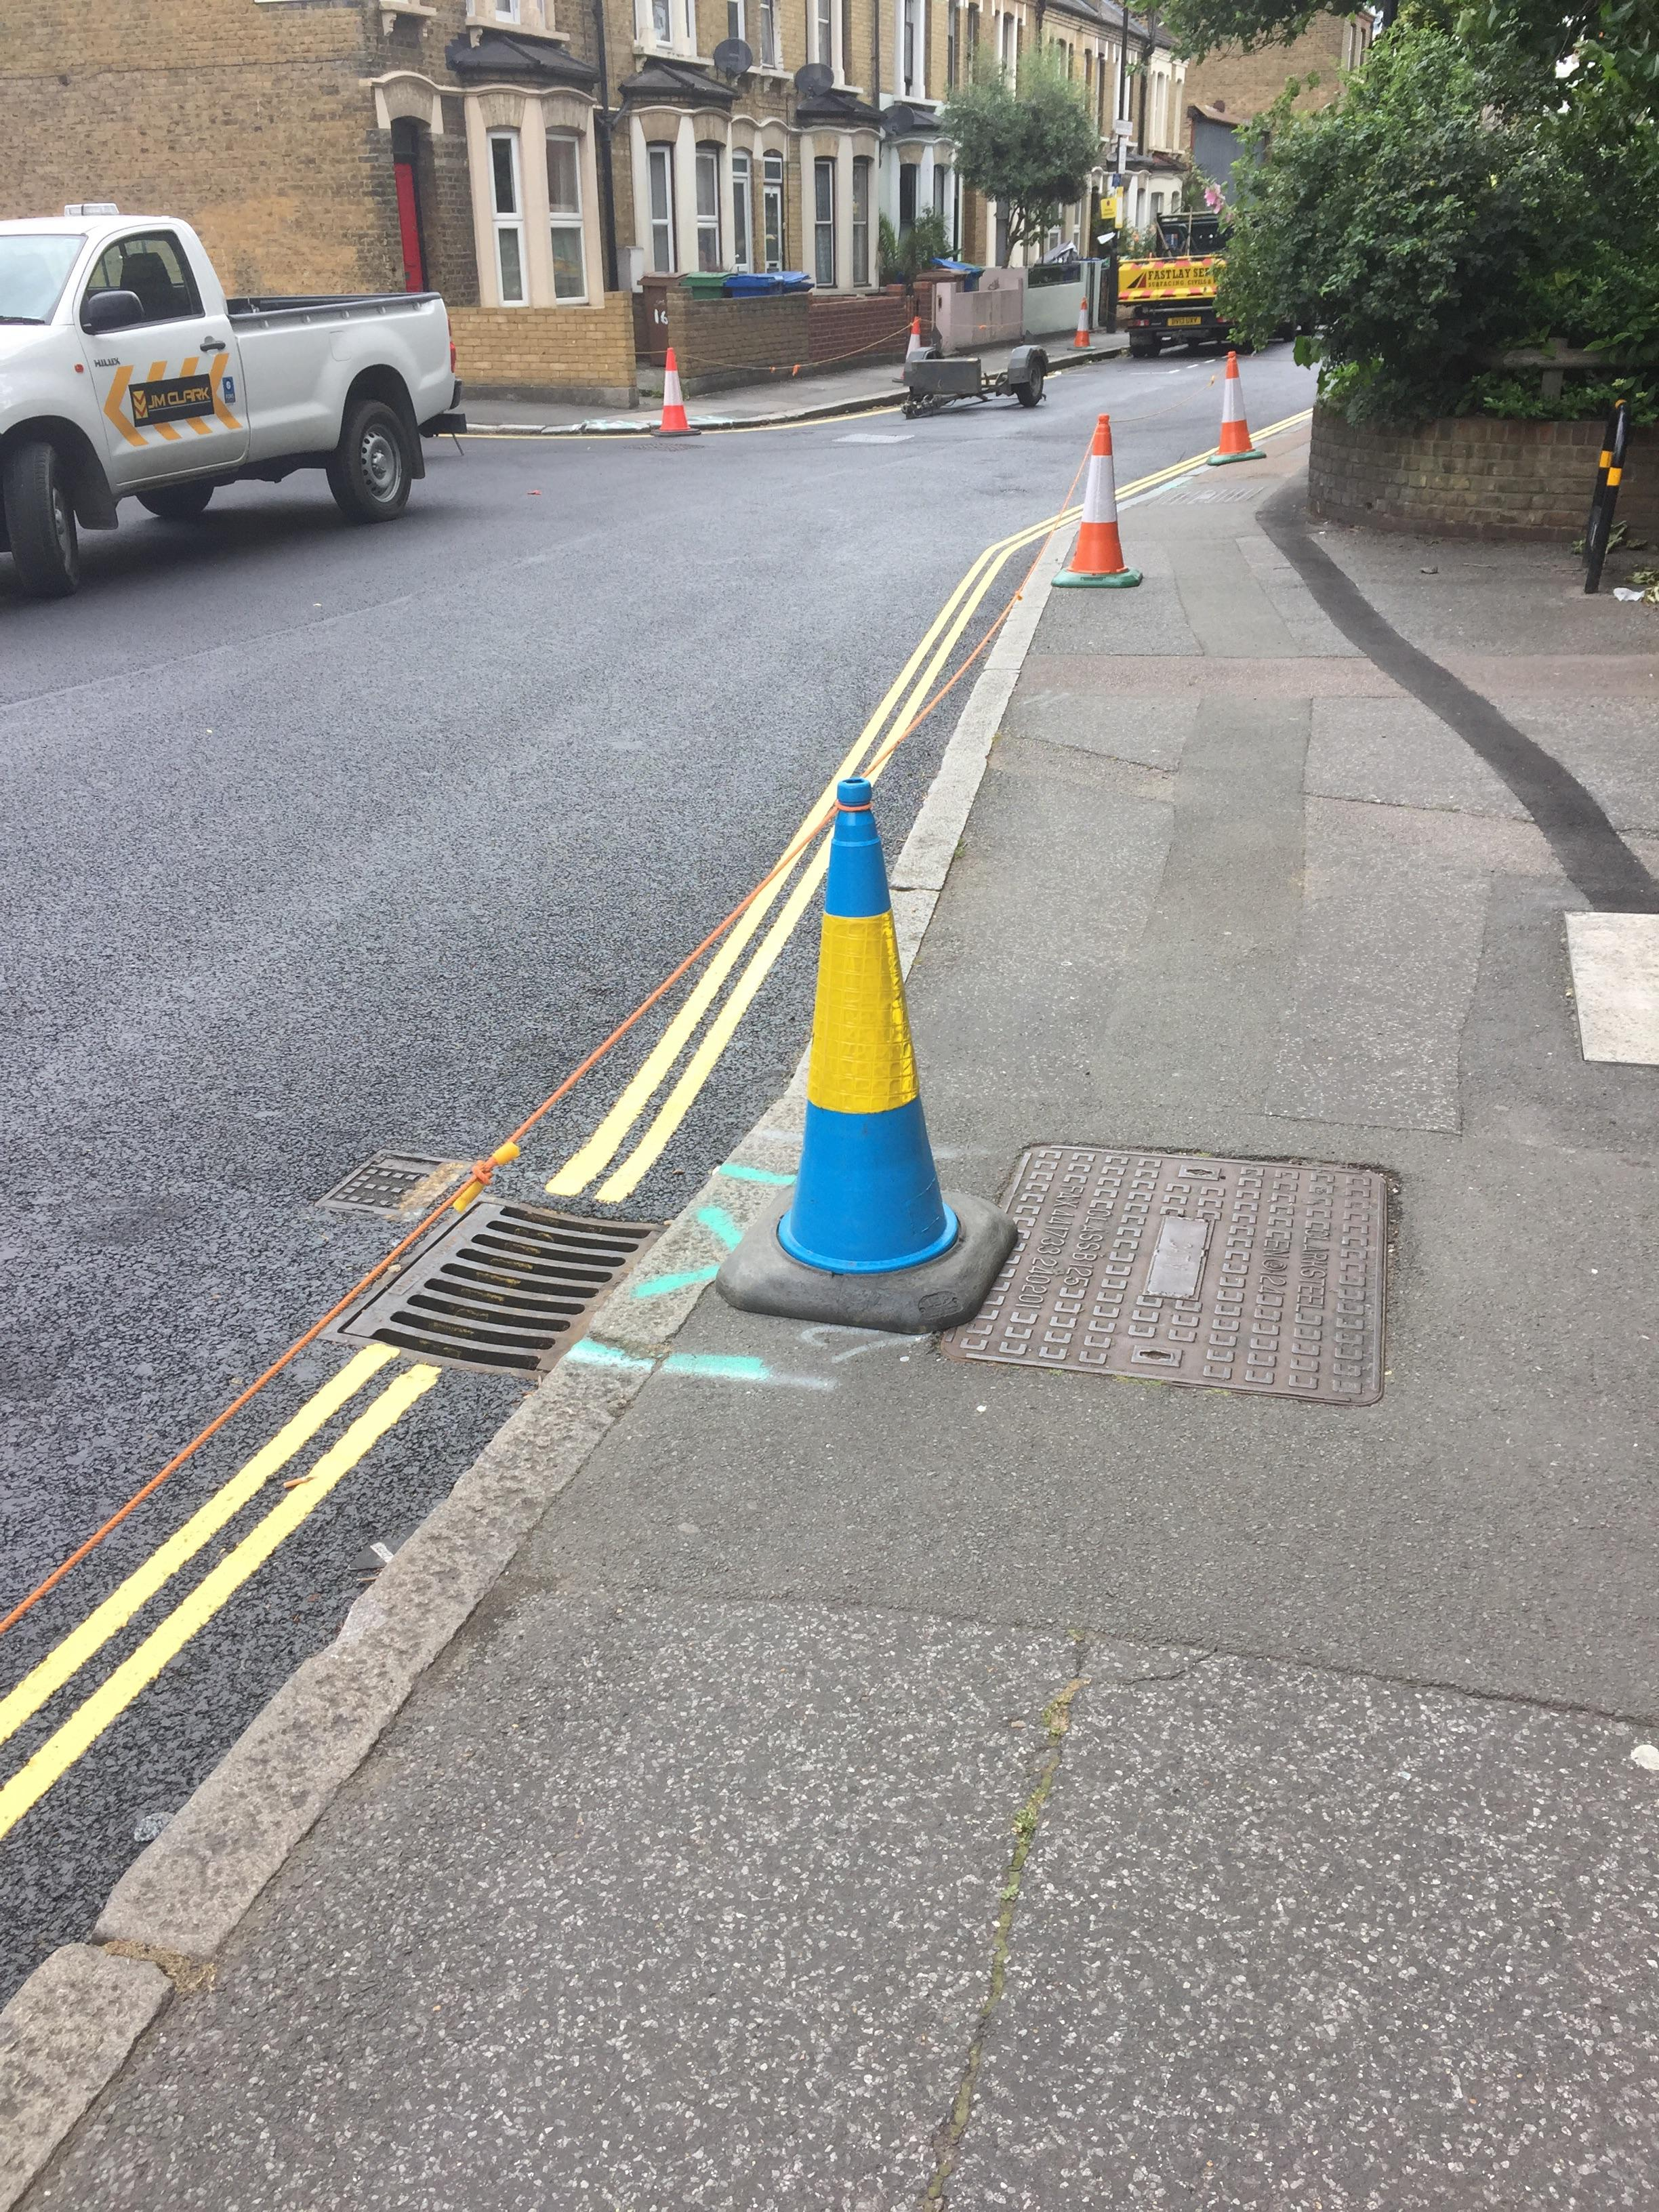cone: (732, 782, 1019, 1332), (1056, 402, 1143, 604), (1188, 345, 1263, 462), (647, 348, 699, 446)
